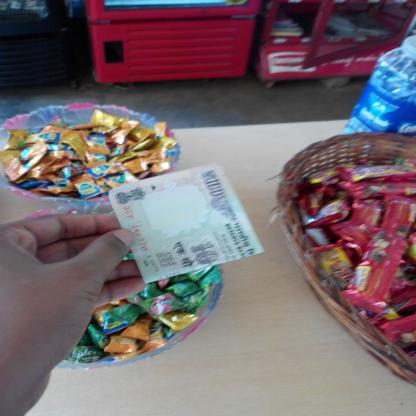Old100Front: (107, 161, 266, 284)
